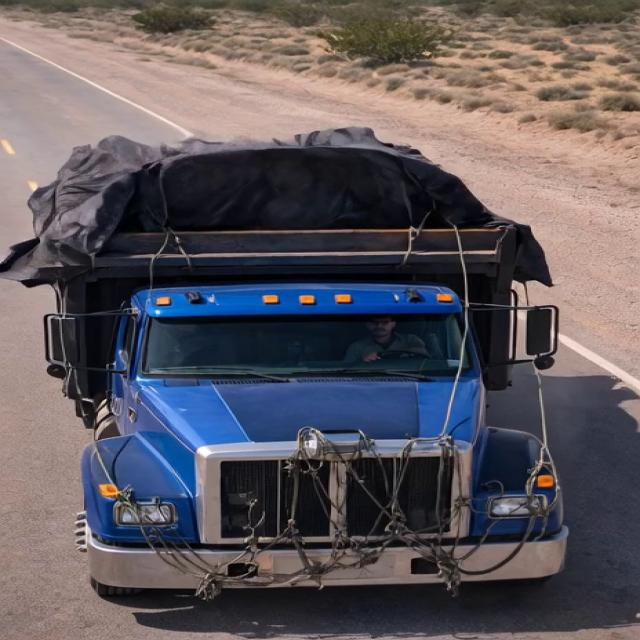Box: (31, 120, 550, 280)
Truck: (46, 76, 576, 602)
